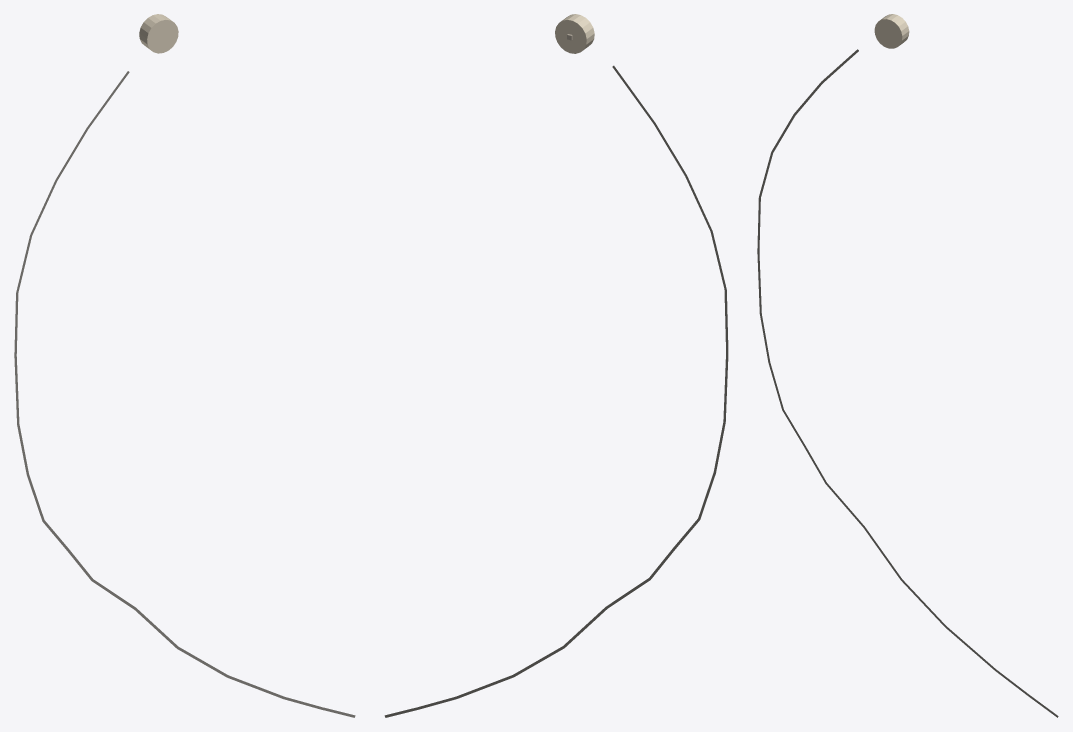
The model's file is historic-palestine-12_22_3542_3166.glb.
3 views of the same model, side by side, from view 1: azimuth 30°, elevation 25°; view 2: azimuth 150°, elevation 25°; view 3: azimuth 330°, elevation 25° (orthographic). The views are drawn at different scales.
Parts seen in each view (by area): view 1: Road, Building_; view 2: Road, Building_; view 3: Road, Building_.
Boxes of the visible parts, box(x1,y1,x2,y2) form: Road: box(14, 71, 355, 717); Building_: box(139, 14, 178, 53); Road: box(384, 65, 728, 717); Building_: box(555, 14, 594, 53); Road: box(757, 49, 1058, 717); Building_: box(874, 14, 909, 48).
Bounding box in the file's own units: 187 × 389 × 8.7.
